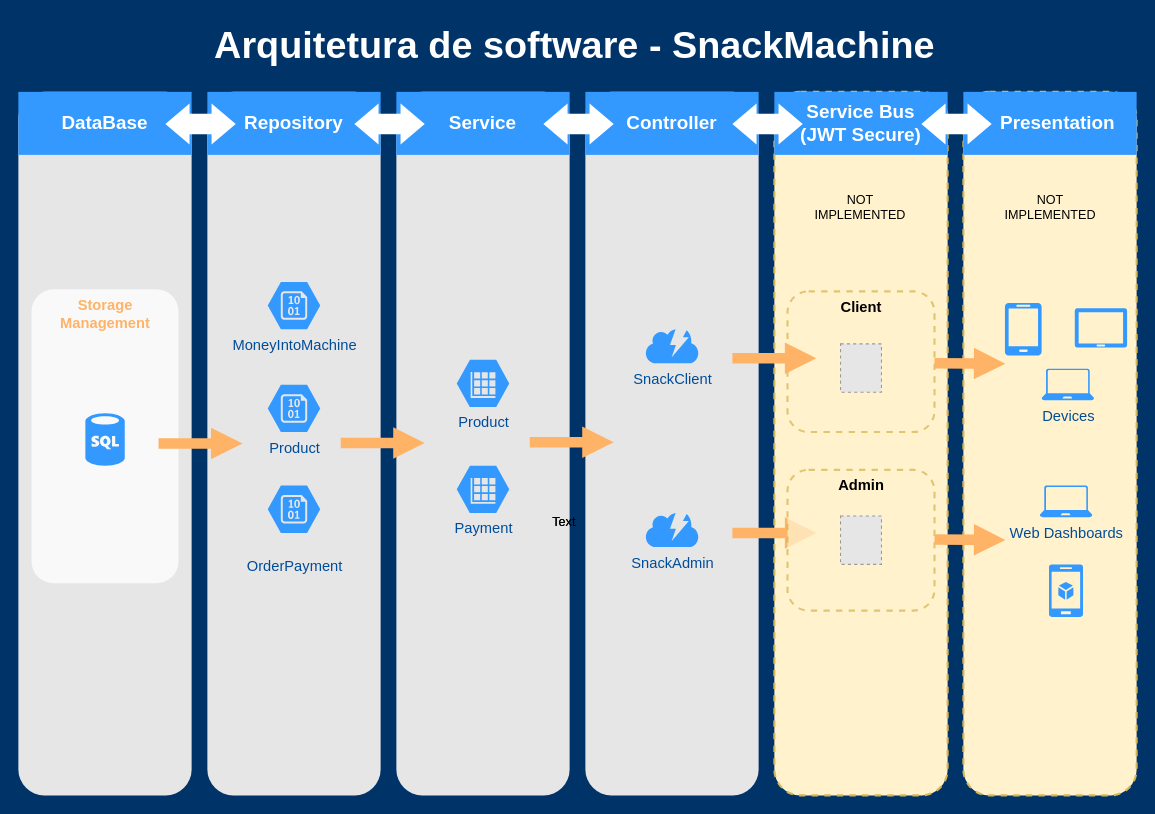
Image size: 1155x814. Some labels were removed from this diagram. Grey dashed boxes stand in for pictures. The shapes that lost their labels are listed below. From the top down, each one's centre as x and y in pixels, then its label:
pixel 104 439: SQL Database
pixel 1065 590: Mobile Services
